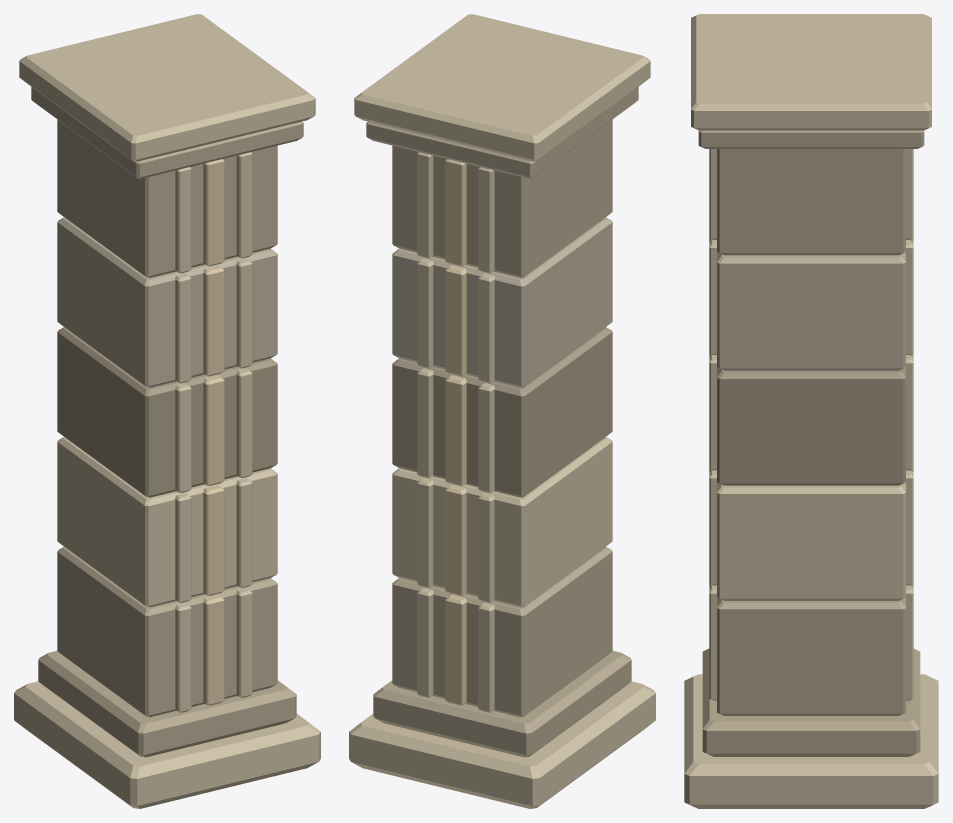
The model's file is Pier_Fluted_3m.fbx.
3 views of the same model, side by side, from view 1: azimuth 30°, elevation 25°; view 2: azimuth 150°, elevation 25°; view 3: azimuth 270°, elevation 25° (orthographic). The views are drawn at different scales.
Visible parts, largest first — view 1: Pier_Fluted_3m; view 2: Pier_Fluted_3m; view 3: Pier_Fluted_3m.
Part boxes in pixels (x1=…): Pier_Fluted_3m: x1=14, y1=14, x2=320, y2=808; Pier_Fluted_3m: x1=349, y1=14, x2=655, y2=808; Pier_Fluted_3m: x1=684, y1=14, x2=938, y2=808.
Bounding box in the file's own units: 0.89 × 3 × 0.98.
